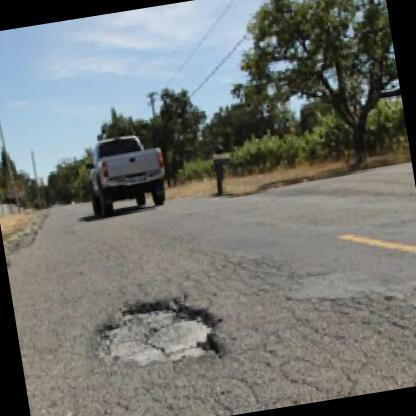pothole: (93, 292, 224, 366)
